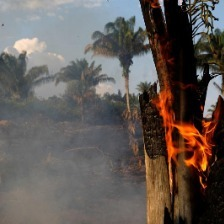incendio: (142, 64, 219, 197)
